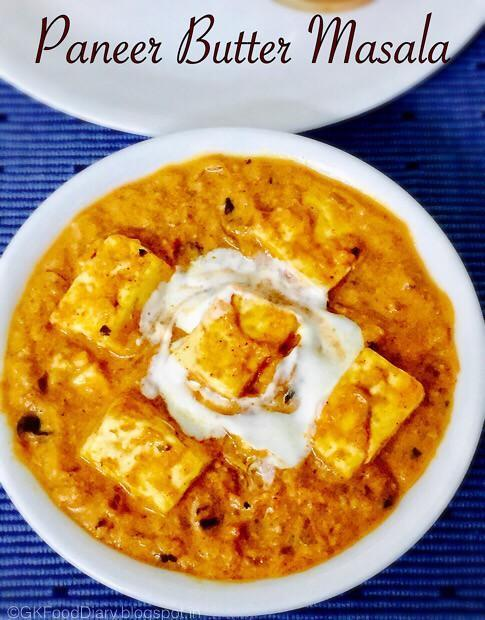paneer: (55, 251, 402, 525)
